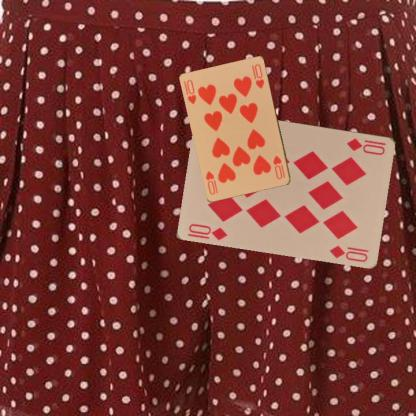10d: (344, 135, 387, 156), (186, 221, 229, 242)
10h: (270, 153, 286, 181), (184, 77, 198, 106)
